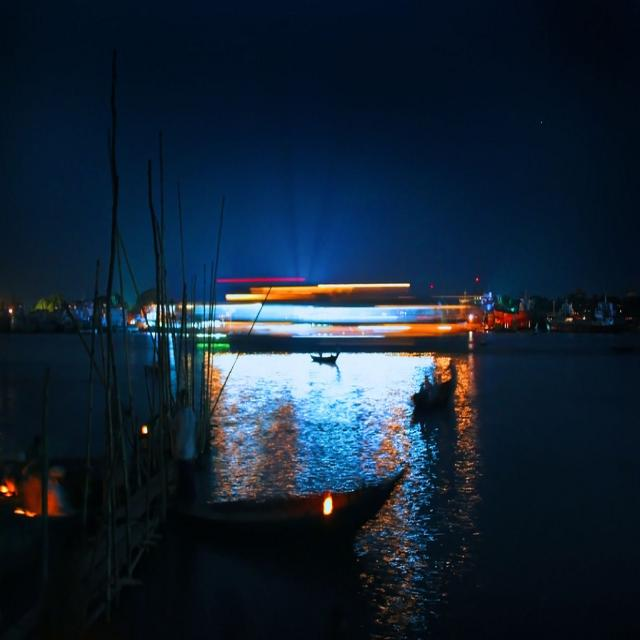Boat: (163, 449, 414, 576), (135, 279, 499, 363), (383, 356, 487, 447), (289, 348, 351, 372)
